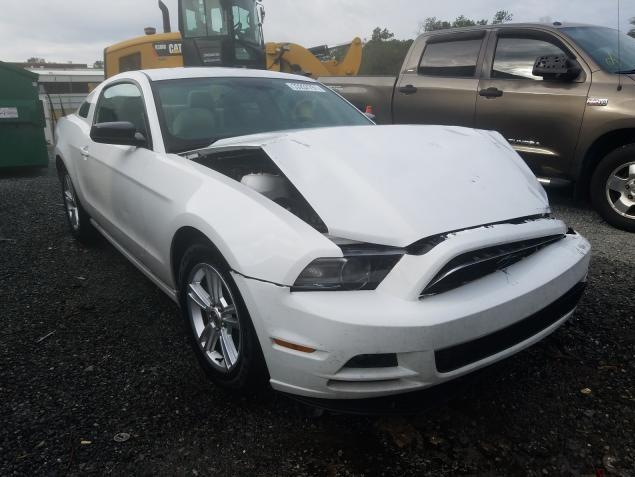Back-wheel: (58, 171, 91, 239)
Back-window: (80, 94, 93, 116)
Fender: (141, 152, 345, 293)
Front-bumper: (229, 216, 595, 404)
Front-door: (73, 79, 153, 271)
Front-wheel: (179, 246, 263, 406)
Front-window: (92, 82, 153, 146)
Grille: (423, 235, 562, 297)
Headlight: (291, 253, 403, 293)
Hood: (178, 124, 553, 248)
Mirror: (93, 121, 136, 145)
Quarter-panel: (54, 113, 94, 219)
Rocker-panel: (90, 222, 175, 305)
Roof: (131, 67, 319, 82)
Windshield: (152, 78, 371, 154)
